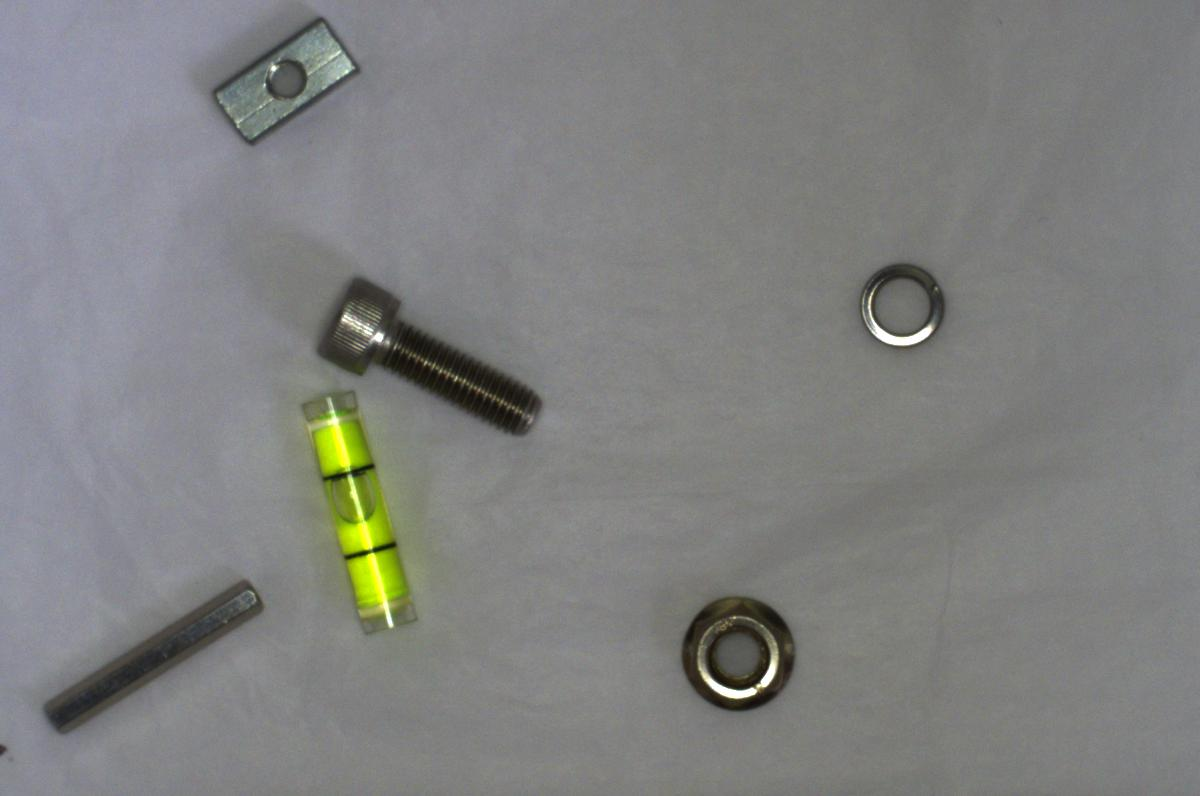Double hexagonal column: (46, 569, 265, 735)
Flange nut: (660, 583, 813, 723)
Hexagon screw: (318, 286, 552, 436)
Horizontal bubble: (292, 379, 421, 638)
Rectangular nut: (197, 14, 367, 147)
Spring washer: (851, 247, 955, 363)
